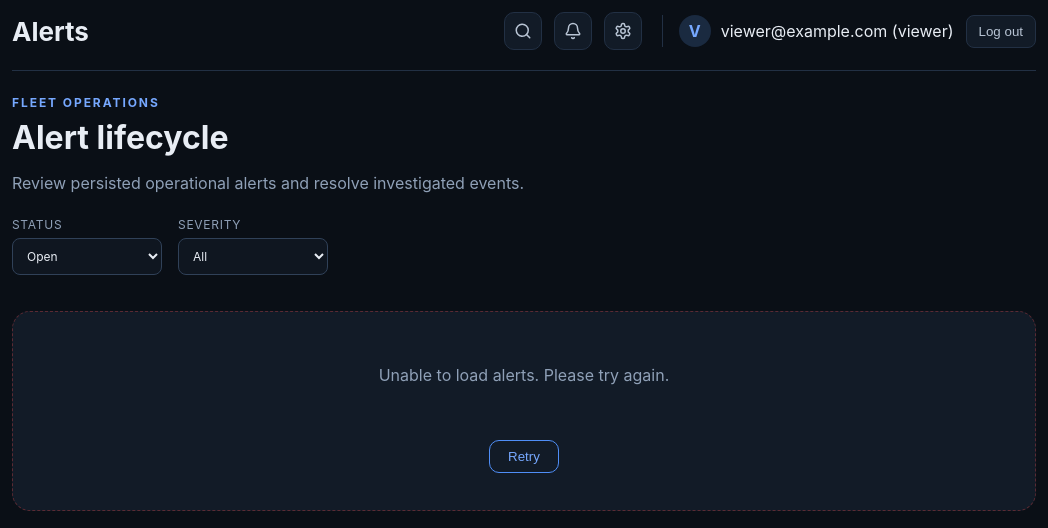
Test: Alerts page › renders a retryable load error
The width and height of the screenshot is (1048, 528).
Expected: the text "Unable to load alerts. Please try again." is shown, [379,365,669,385]
Click the button "Retry": (524, 456) [489,440,559,473]
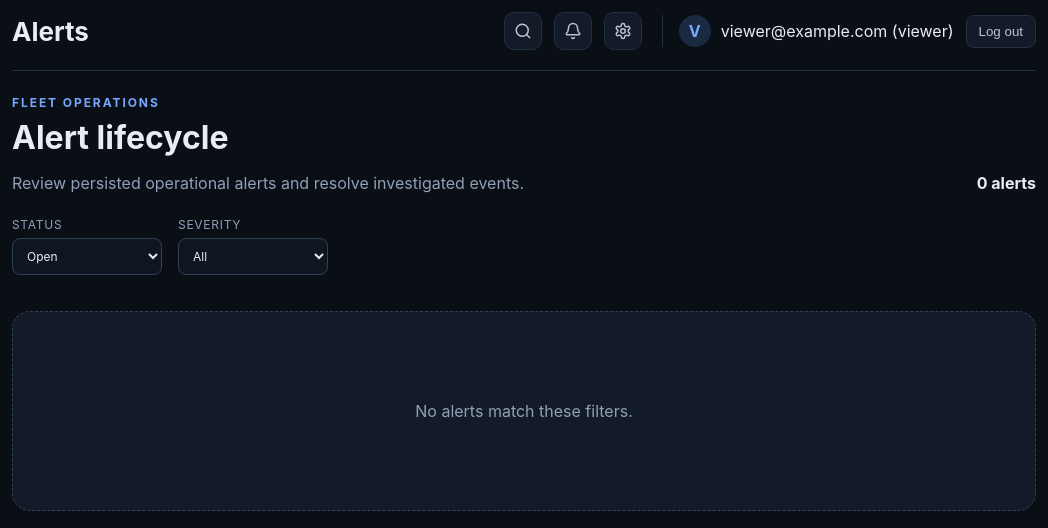
Expected: the text "No alerts match these filters." is shown, [415,401,633,421]
